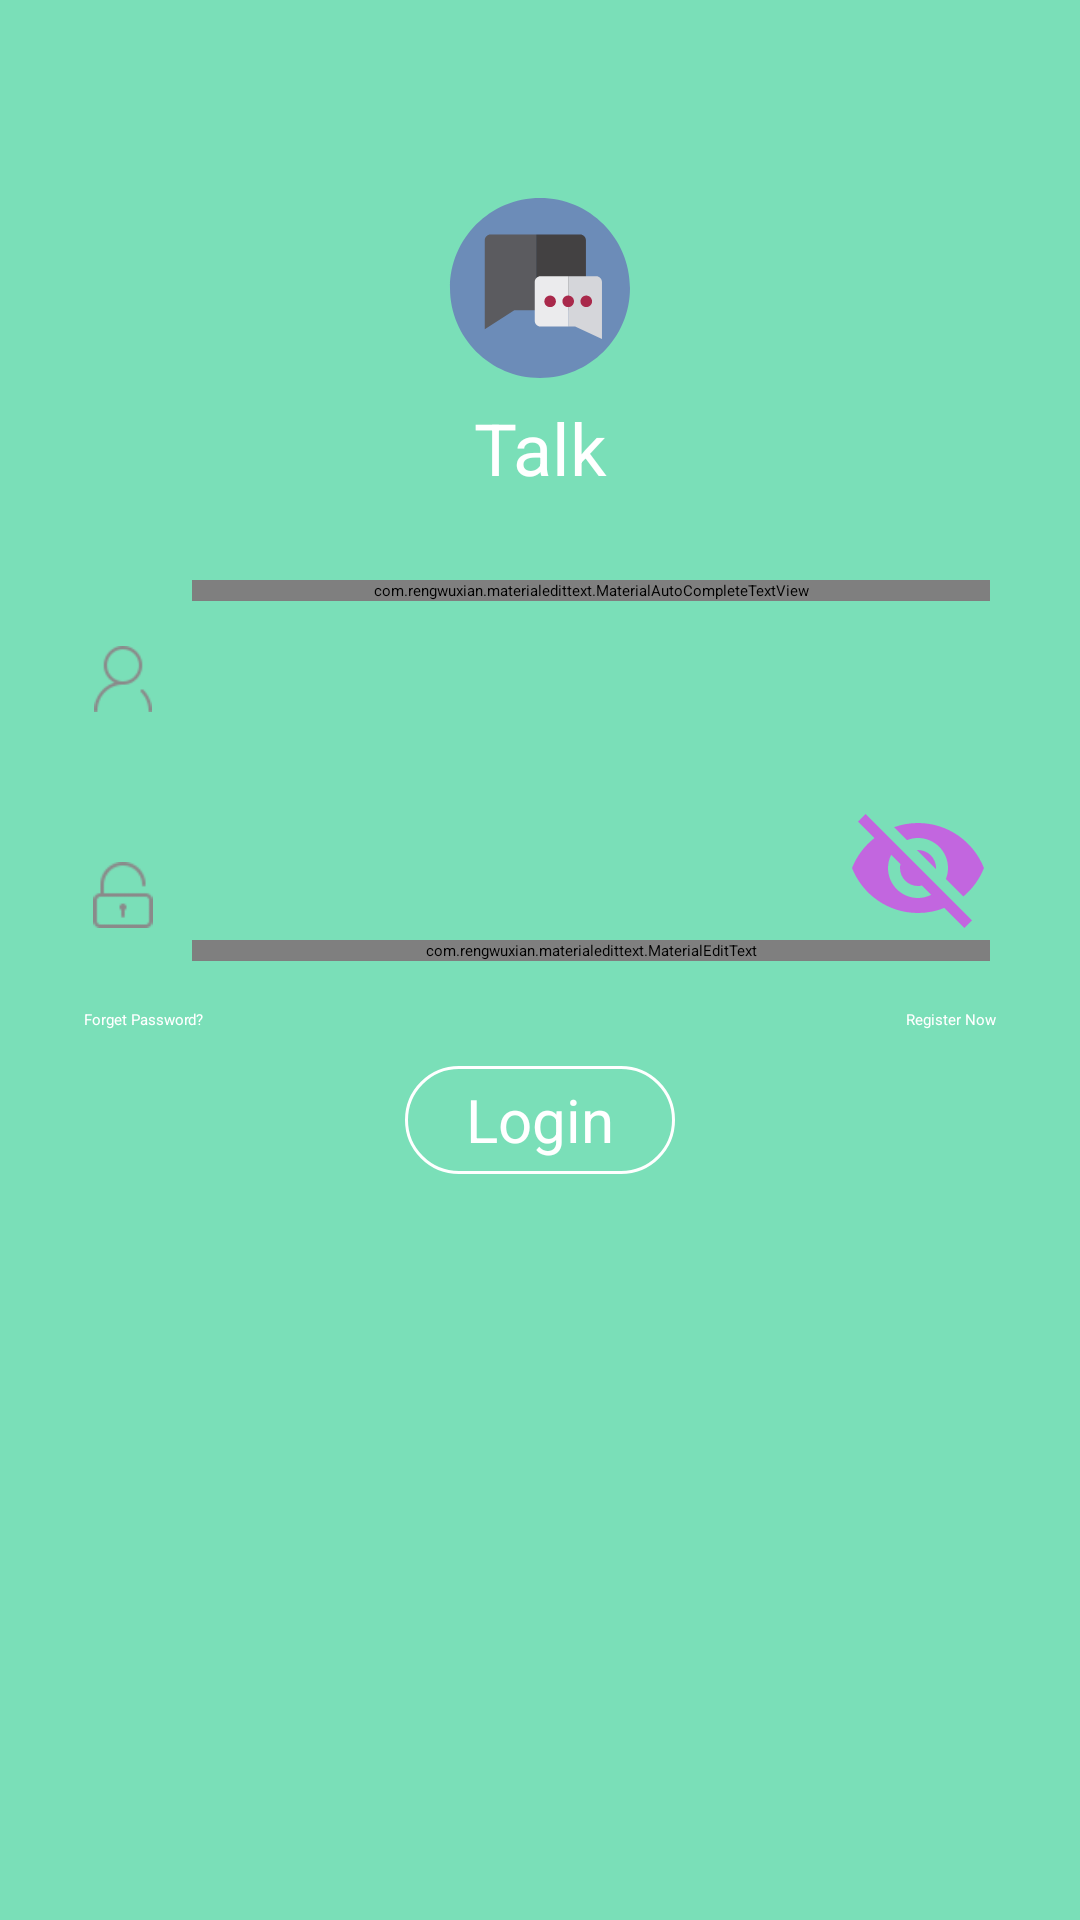

Screen size 1080w x 1920h. Icon name, then its center in pixels as [x,y]:
lock: [123,895]
